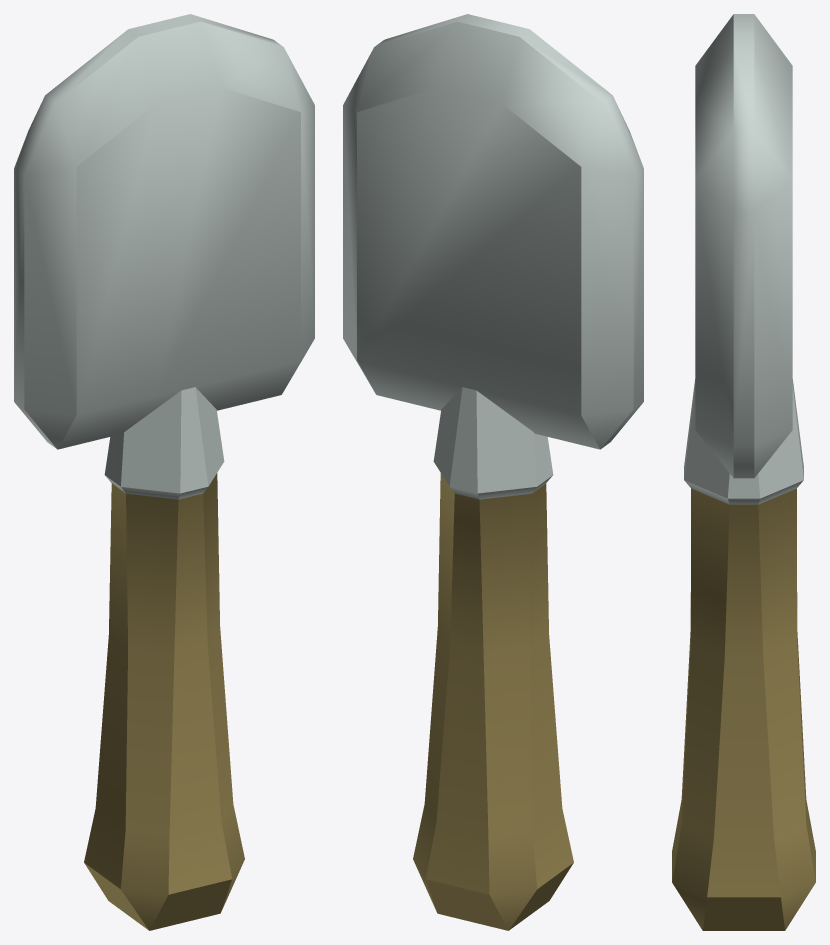
File: quaternius-cube-world-shovel-diamond.glb
The picture shows the model from 3 angles, left to right: view 1: azimuth 30°, elevation 25°; view 2: azimuth 150°, elevation 25°; view 3: azimuth 270°, elevation 25°; orthographic projection.
Parts seen in each view (by area): view 1: Shovel_Diamond; view 2: Shovel_Diamond; view 3: Shovel_Diamond.
Part boxes in pixels (bbox=[...]): Shovel_Diamond: bbox=[14, 14, 314, 930]; Shovel_Diamond: bbox=[343, 14, 643, 930]; Shovel_Diamond: bbox=[672, 14, 815, 930].
Bounding box in the file's own units: 0.584 × 1.69 × 0.2499.
Materials: 1 (1 with a texture image).
